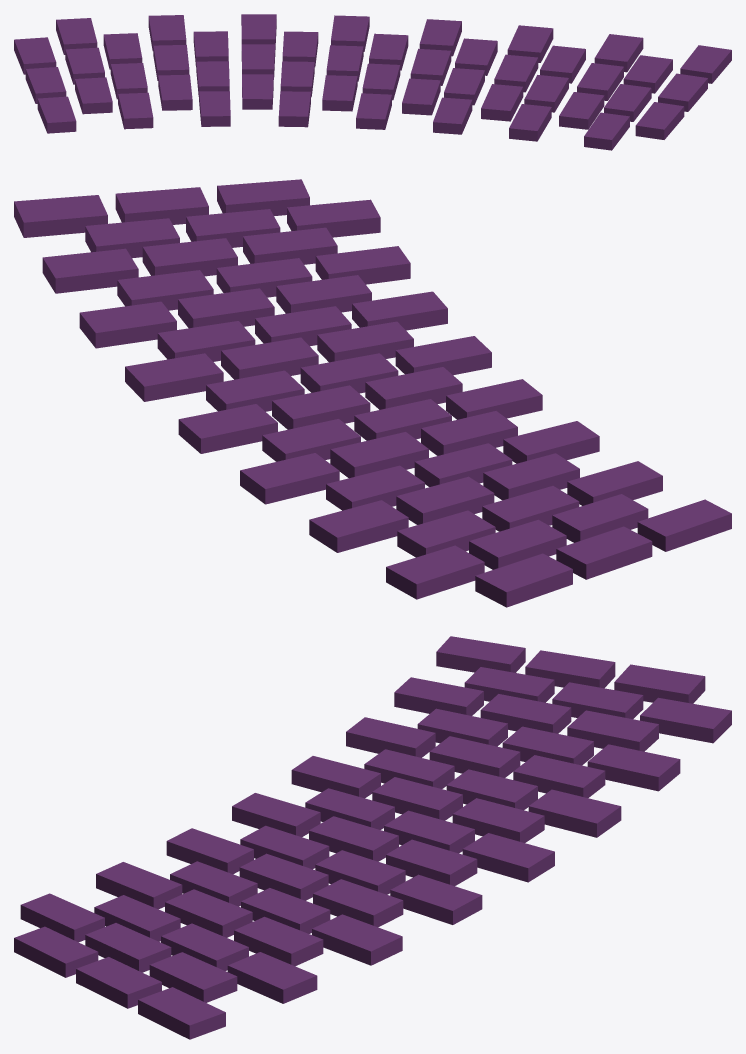
The model's file is StoneRoad2.fbx.
The picture shows the model from 3 angles, top to bottom: view 1: azimuth 30°, elevation 25°; view 2: azimuth 150°, elevation 25°; view 3: azimuth 270°, elevation 25°; orthographic projection. The views are drawn at different scales.
Visible parts, largest first — view 1: Cube.011; view 2: Cube.011; view 3: Cube.011.
Boxes of the visible parts, x1,y1,x2,y2 form: Cube.011: (14,14,731,150); Cube.011: (14,179,731,607); Cube.011: (14,636,731,1039).
Bounding box in the file's own units: 1445 × 24.72 × 1126.
